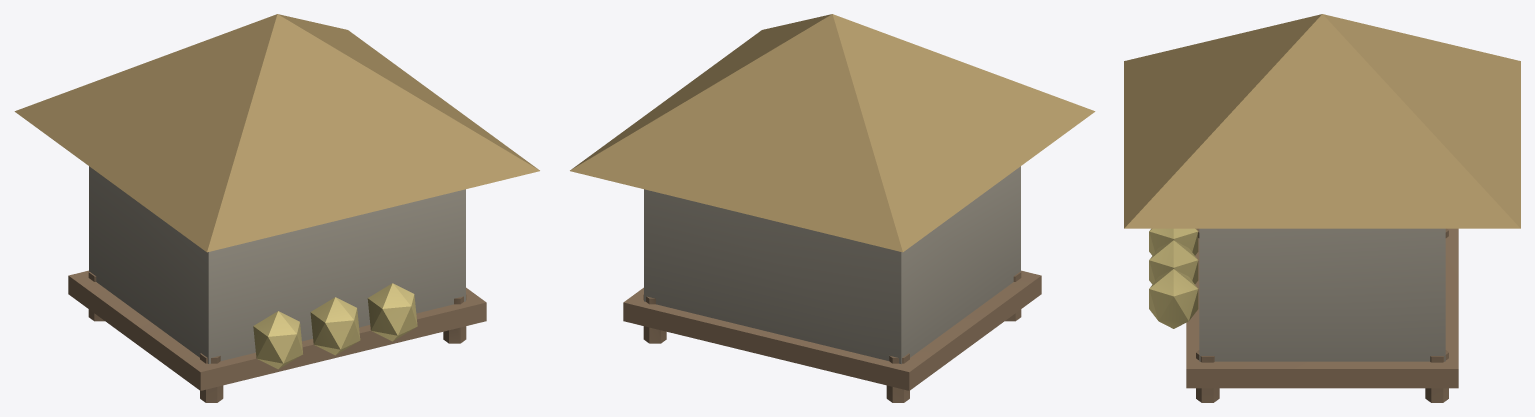
File: storehouse.glb
The picture shows the model from 3 angles, left to right: view 1: azimuth 30°, elevation 25°; view 2: azimuth 150°, elevation 25°; view 3: azimuth 270°, elevation 25°; orthographic projection. The views are drawn at different scales.
Parts seen in each view (by area): view 1: storehouse; view 2: storehouse; view 3: storehouse.
Part boxes in pixels (<box>): storehouse: <box>14,14,539,402</box>; storehouse: <box>570,14,1095,402</box>; storehouse: <box>1124,14,1520,402</box>.
Size of the model in its own units: 4.67 by 4.2 by 4.67.
